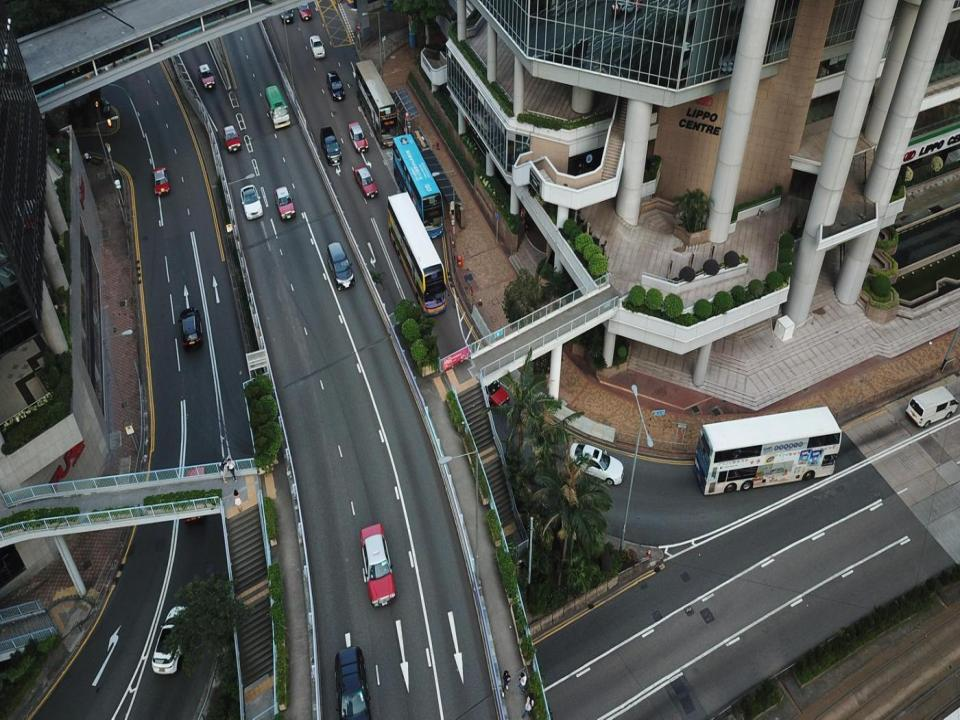bus: (695, 405, 842, 496), (388, 191, 446, 315), (393, 135, 445, 241), (353, 59, 399, 146)
car: (360, 522, 395, 608), (152, 606, 191, 673), (335, 646, 370, 719), (568, 442, 624, 486), (473, 368, 510, 410), (326, 242, 354, 290), (183, 465, 206, 523), (178, 308, 202, 349), (353, 166, 379, 199), (240, 185, 262, 220), (274, 186, 296, 220), (349, 122, 368, 154), (326, 70, 346, 100), (223, 124, 241, 154), (152, 166, 169, 195), (198, 64, 214, 89), (310, 34, 324, 57), (279, 2, 294, 23), (298, 1, 310, 20)
van: (906, 386, 958, 428), (265, 85, 290, 129), (320, 126, 342, 166)
